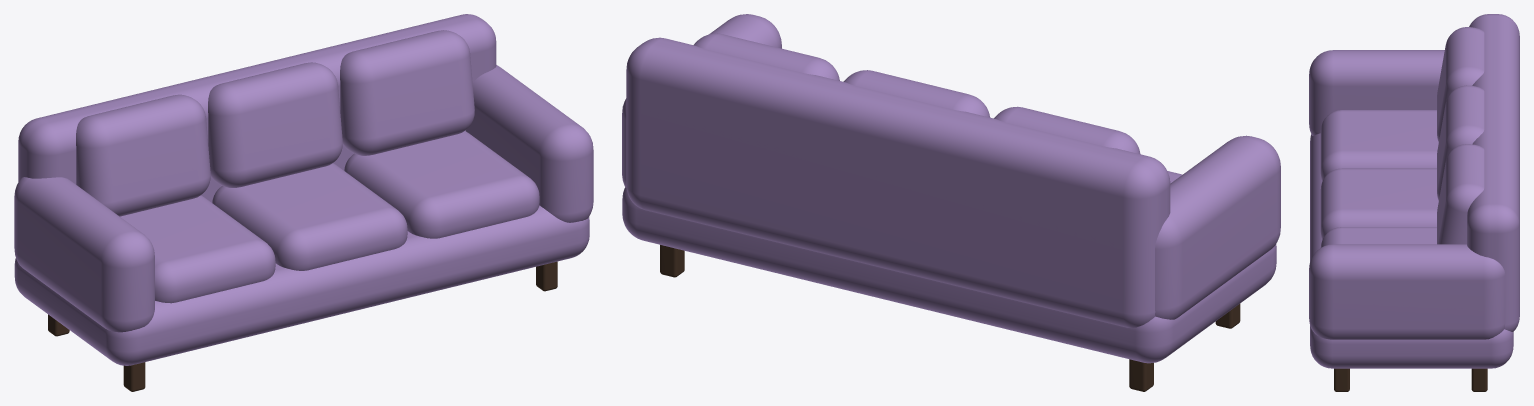
File: sofa_no_pillows_lavender.glb
3 views of the same model, side by side, from view 1: azimuth 30°, elevation 25°; view 2: azimuth 150°, elevation 25°; view 3: azimuth 270°, elevation 25° (orthographic). The views are drawn at different scales.
Parts seen in each view (by area): view 1: Upholstered foundation, Rounded padded arm, Plush back cushion.002, Plush back cushion.001, Plush back cushion, Seat cushion.002, Seat cushion.001, Rounded padded arm.001, Padded back frame, Seat cushion, Walnut foot, Walnut foot.002; view 2: Padded back frame, Upholstered foundation, Rounded padded arm, Plush back cushion.001, Plush back cushion.002, Plush back cushion, Rounded padded arm.001, Walnut foot.001, Walnut foot.003; view 3: Rounded padded arm.001, Padded back frame, Rounded padded arm, Upholstered foundation, Seat cushion, Seat cushion.001, Plush back cushion.002, Plush back cushion.001, Plush back cushion, Seat cushion.002, Walnut foot.003, Walnut foot.002.
Boxes of the visible parts, x1=… form: Upholstered foundation: x1=14, y1=205, x2=589, y2=365; Rounded padded arm: x1=14, y1=177, x2=154, y2=332; Plush back cushion.002: x1=340, y1=30, x2=474, y2=155; Plush back cushion.001: x1=208, y1=62, x2=342, y2=187; Plush back cushion: x1=76, y1=94, x2=210, y2=216; Seat cushion.002: x1=344, y1=131, x2=539, y2=238; Seat cushion.001: x1=212, y1=163, x2=407, y2=270; Rounded padded arm.001: x1=466, y1=65, x2=593, y2=222; Padded back frame: x1=18, y1=14, x2=496, y2=202; Seat cushion: x1=120, y1=195, x2=275, y2=303; Walnut foot: x1=123, y1=362, x2=145, y2=391; Walnut foot.002: x1=536, y1=261, x2=557, y2=291; Padded back frame: x1=626, y1=37, x2=1170, y2=328; Upholstered foundation: x1=622, y1=187, x2=1276, y2=363; Rounded padded arm: x1=1155, y1=135, x2=1280, y2=319; Plush back cushion.001: x1=843, y1=70, x2=990, y2=117; Plush back cushion.002: x1=693, y1=33, x2=839, y2=80; Plush back cushion: x1=994, y1=106, x2=1140, y2=154; Rounded padded arm.001: x1=622, y1=14, x2=781, y2=187; Walnut foot.001: x1=1129, y1=359, x2=1153, y2=391; Walnut foot.003: x1=660, y1=245, x2=684, y2=277; Rounded padded arm.001: x1=1309, y1=244, x2=1505, y2=339; Padded back frame: x1=1467, y1=14, x2=1519, y2=331; Rounded padded arm: x1=1309, y1=50, x2=1444, y2=135; Upholstered foundation: x1=1310, y1=133, x2=1513, y2=368; Seat cushion: x1=1320, y1=110, x2=1438, y2=181; Seat cushion.001: x1=1320, y1=168, x2=1438, y2=239; Plush back cushion.002: x1=1437, y1=144, x2=1484, y2=244; Plush back cushion.001: x1=1437, y1=85, x2=1484, y2=200; Plush back cushion: x1=1437, y1=27, x2=1484, y2=142; Seat cushion.002: x1=1320, y1=227, x2=1436, y2=247; Walnut foot.003: x1=1471, y1=368, x2=1487, y2=391; Walnut foot.002: x1=1334, y1=368, x2=1349, y2=391.
Bounding box in the file's own units: 2.42 × 0.9999 × 0.995.
